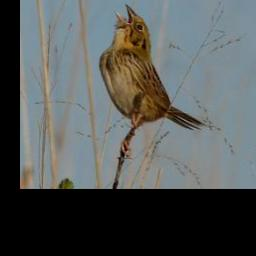Sparrow: (98, 3, 208, 158)
